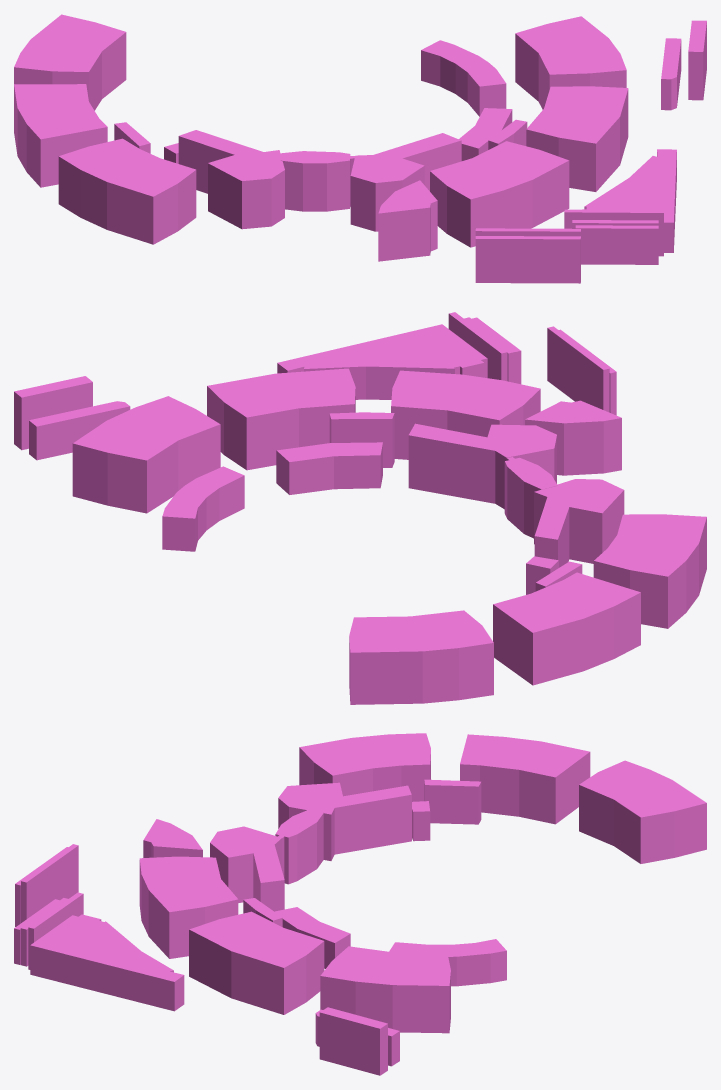
The model's file is bld_17_12.fbx.
3 renders of one model, top to bottom at view 1: azimuth 30°, elevation 25°; view 2: azimuth 150°, elevation 25°; view 3: azimuth 270°, elevation 25°, orthographic. The views are drawn at different scales.
Parts seen in each view (by area): view 1: bld_17_12_COL; view 2: bld_17_12_COL; view 3: bld_17_12_COL.
Boxes of the visible parts, x1,y1,x2,y2 form: bld_17_12_COL: (14, 14, 706, 283); bld_17_12_COL: (14, 312, 706, 704); bld_17_12_COL: (14, 733, 706, 1075).
Size of what is drawn, in the model's own units: 541 by 40.32 by 535.
